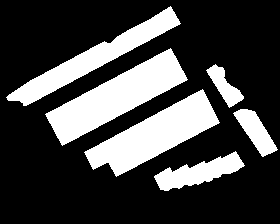parkingspot: (6, 6, 180, 105), (45, 48, 179, 130), (53, 63, 187, 145), (84, 89, 211, 169), (107, 105, 219, 176), (154, 151, 244, 190), (233, 109, 277, 156), (206, 64, 243, 107)
